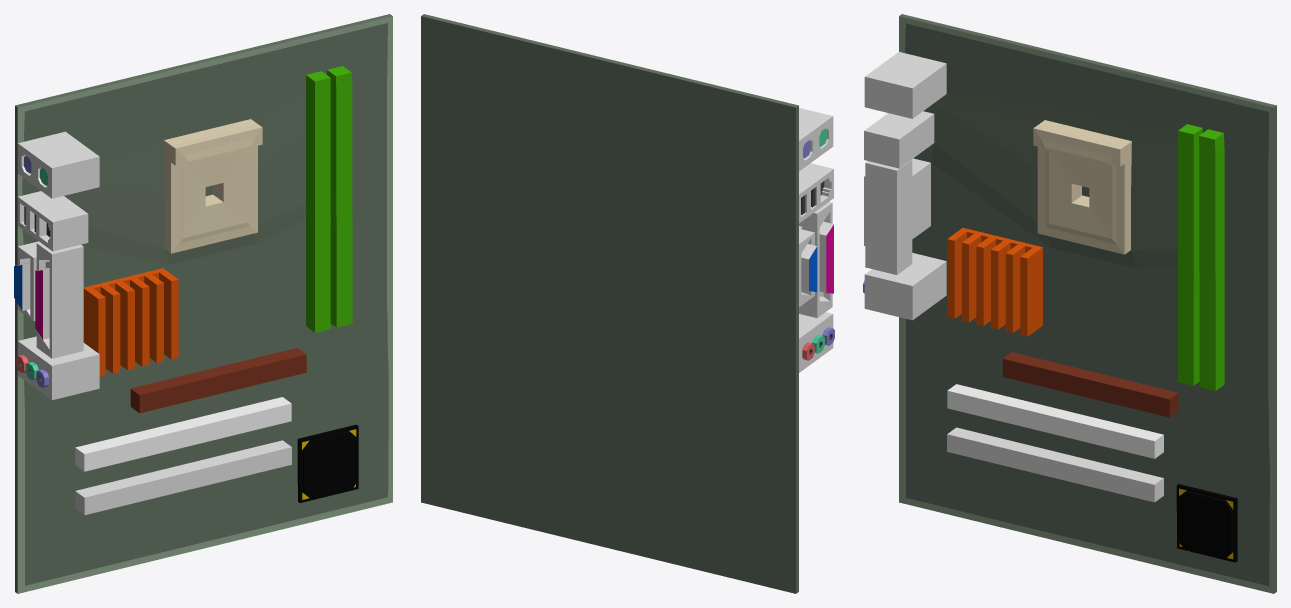
File: mobo_socket-754_1-amd.fbx
3 renders of one model, left to right at view 1: azimuth 30°, elevation 25°; view 2: azimuth 150°, elevation 25°; view 3: azimuth 330°, elevation 25°, orthographic.
Parts seen in each view (by area): view 1: Plane, Plane.001; view 2: Plane; view 3: Plane, Plane.001.
Boxes of the visible parts, x1,y1,x2,y2 form: Plane: (14,14,392,593); Plane.001: (83,268,178,376); Plane: (421,14,834,593); Plane: (863,14,1276,593); Plane.001: (947,228,1042,336).
Bounding box in the file's own units: 160 × 195 × 27.57.
